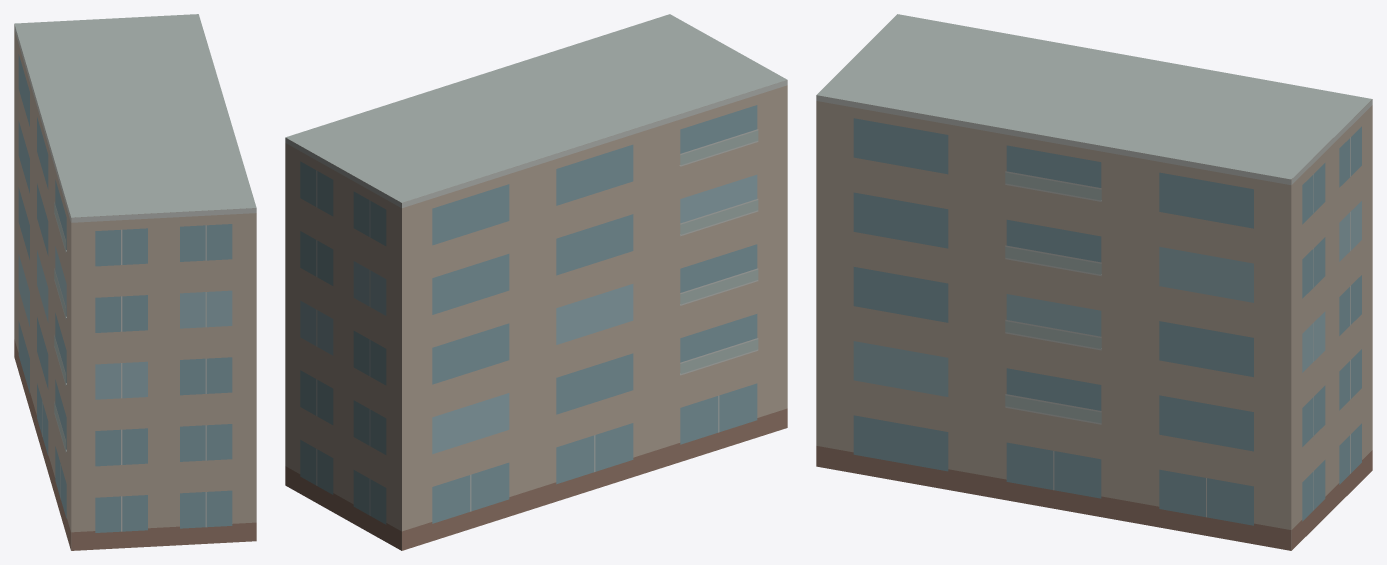
Rendered from survey-upis-32535602.glb.
The picture shows the model from 3 angles, left to right: view 1: azimuth 30°, elevation 25°; view 2: azimuth 150°, elevation 25°; view 3: azimuth 270°, elevation 25°; orthographic projection. The views are drawn at different scales.
Visible parts, largest first — view 1: survey-upis-32535602.tmp; view 2: survey-upis-32535602.tmp; view 3: survey-upis-32535602.tmp.
Part boxes in pixels (box(x1,y1,x2,y2)): survey-upis-32535602.tmp: box(14, 14, 256, 550); survey-upis-32535602.tmp: box(285, 14, 787, 550); survey-upis-32535602.tmp: box(816, 14, 1372, 550).
Size of the model in its own units: 14.97 by 15.65 by 21.25.
